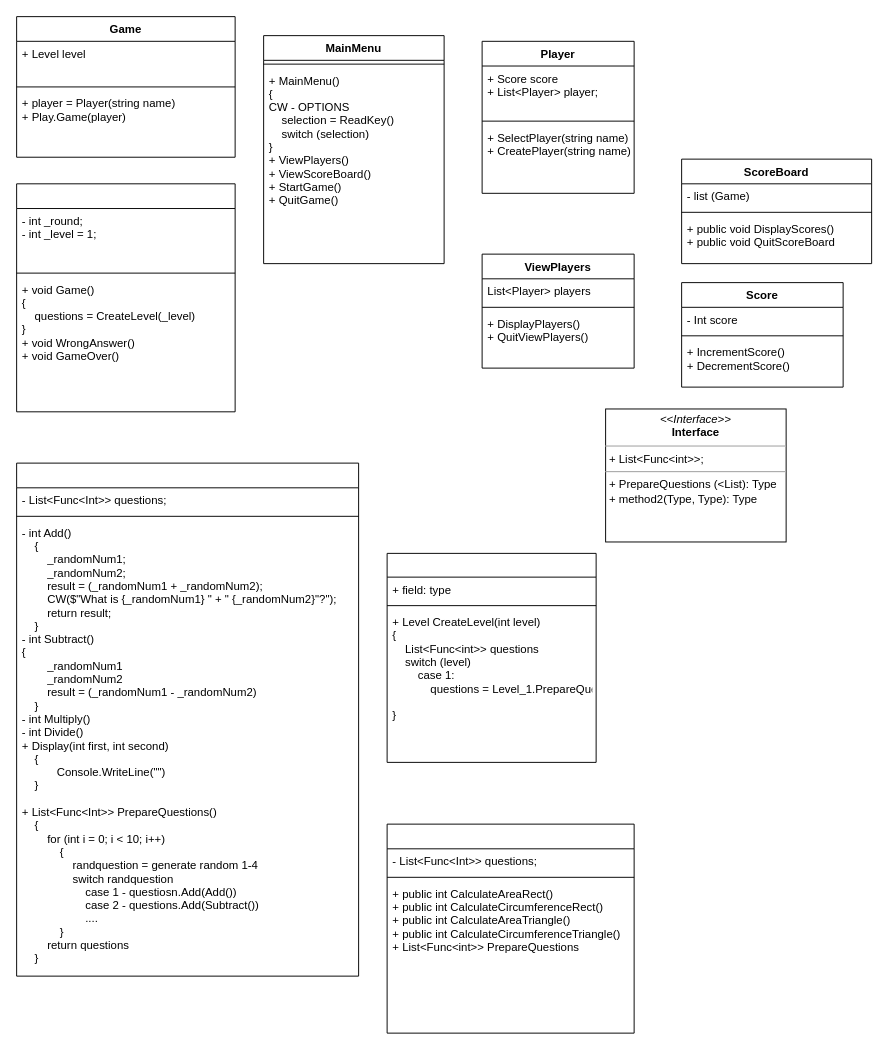
The diagram is 888 pixels wide and 1053 high, and some of its shapes have lost their labels. The box of each missing label's shape, as (x1, y1, x2, y2) in pixels:
abstract class Level 2: (386, 823, 634, 1033)
abstract class Level_1: (16, 462, 359, 976)
LevelMain: (386, 552, 596, 762)
Play: (16, 183, 235, 412)
